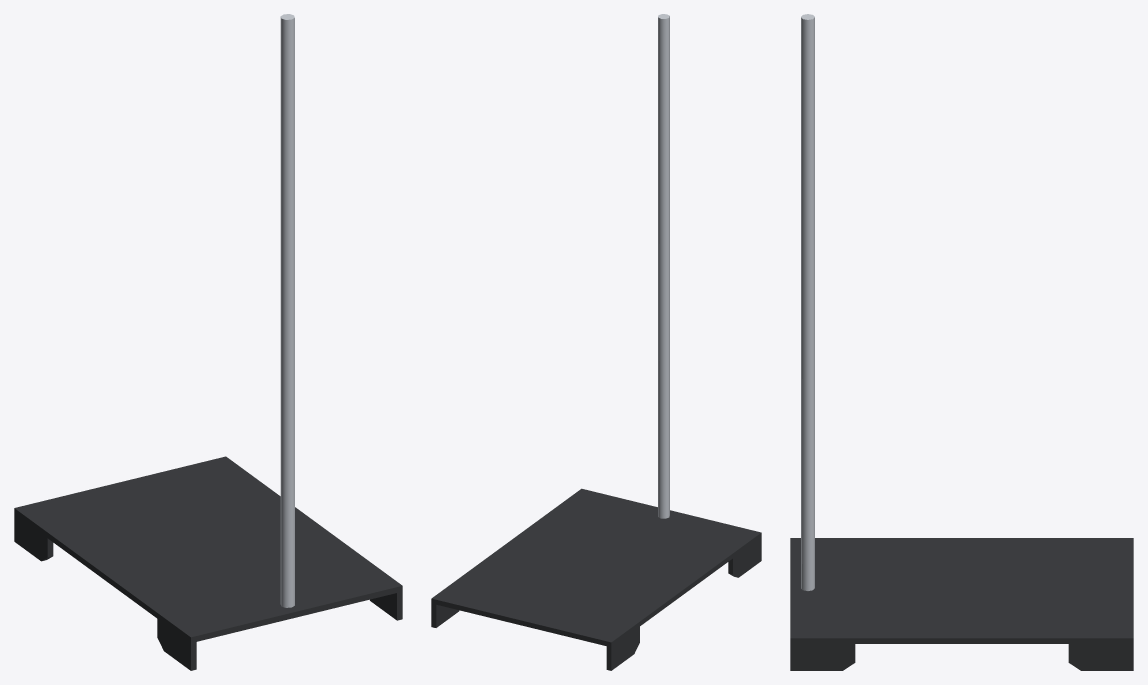
Rendered from heating_equipment_iron_stand.glb.
3 views of the same model, side by side, from view 1: azimuth 30°, elevation 25°; view 2: azimuth 150°, elevation 25°; view 3: azimuth 270°, elevation 25° (orthographic). The views are drawn at different scales.
Visible parts, largest first — view 1: heating_equipment_iron_stand; view 2: heating_equipment_iron_stand; view 3: heating_equipment_iron_stand.
Boxes of the visible parts, x1,y1,x2,y2 form: heating_equipment_iron_stand: (14,14,402,670); heating_equipment_iron_stand: (431,14,761,670); heating_equipment_iron_stand: (790,14,1133,670).
Size of the model in its own units: 21.94 by 61.53 by 31.71.
1 material, 1 textured.
